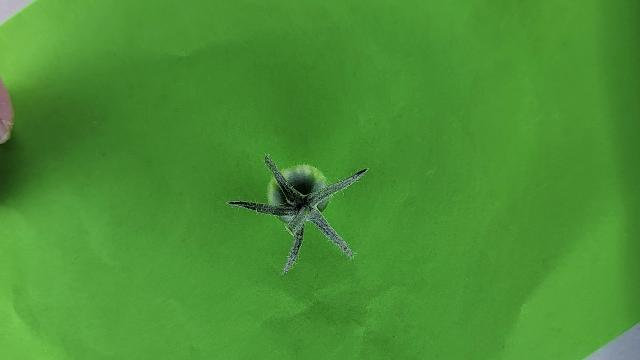Fruit Maturation: (266, 163, 332, 226)
